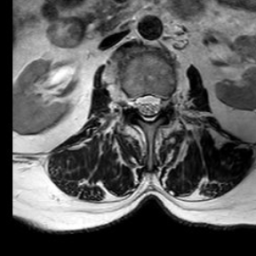CCS_normal: (144, 82, 153, 132)
LFS_normal: (160, 82, 171, 116)
LLS_normal: (153, 84, 162, 122)
RFS_normal: (124, 82, 134, 117)
RLS_normal: (134, 84, 144, 121)
